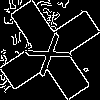X: (25, 25, 81, 78)
